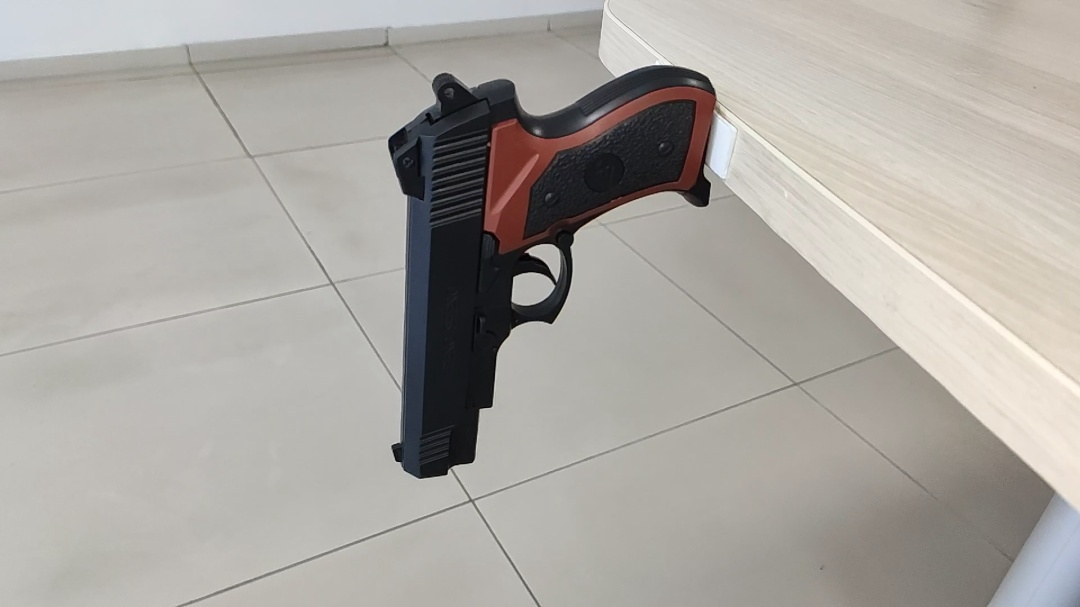gun: (609, 235, 764, 323)
